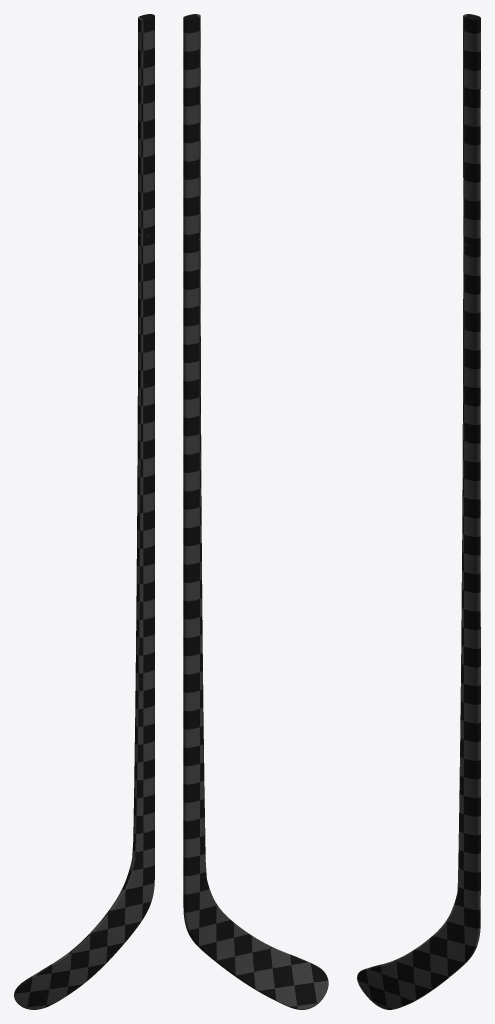
Rendered from P92-SBO-JR.glb.
3 views of the same model, side by side, from view 1: azimuth 30°, elevation 25°; view 2: azimuth 210°, elevation 25°; view 3: azimuth 330°, elevation 25° (orthographic). The views are drawn at different scales.
Visible parts, largest first — view 1: geometry_0; view 2: geometry_0; view 3: geometry_0.
Boxes of the visible parts, x1,y1,x2,y2 form: geometry_0: [14, 14, 154, 1009]; geometry_0: [183, 14, 328, 1009]; geometry_0: [357, 14, 480, 1009].
Bounding box in the file's own units: 227 × 1650 × 50.87.
Materials: 1 (1 with a texture image).
